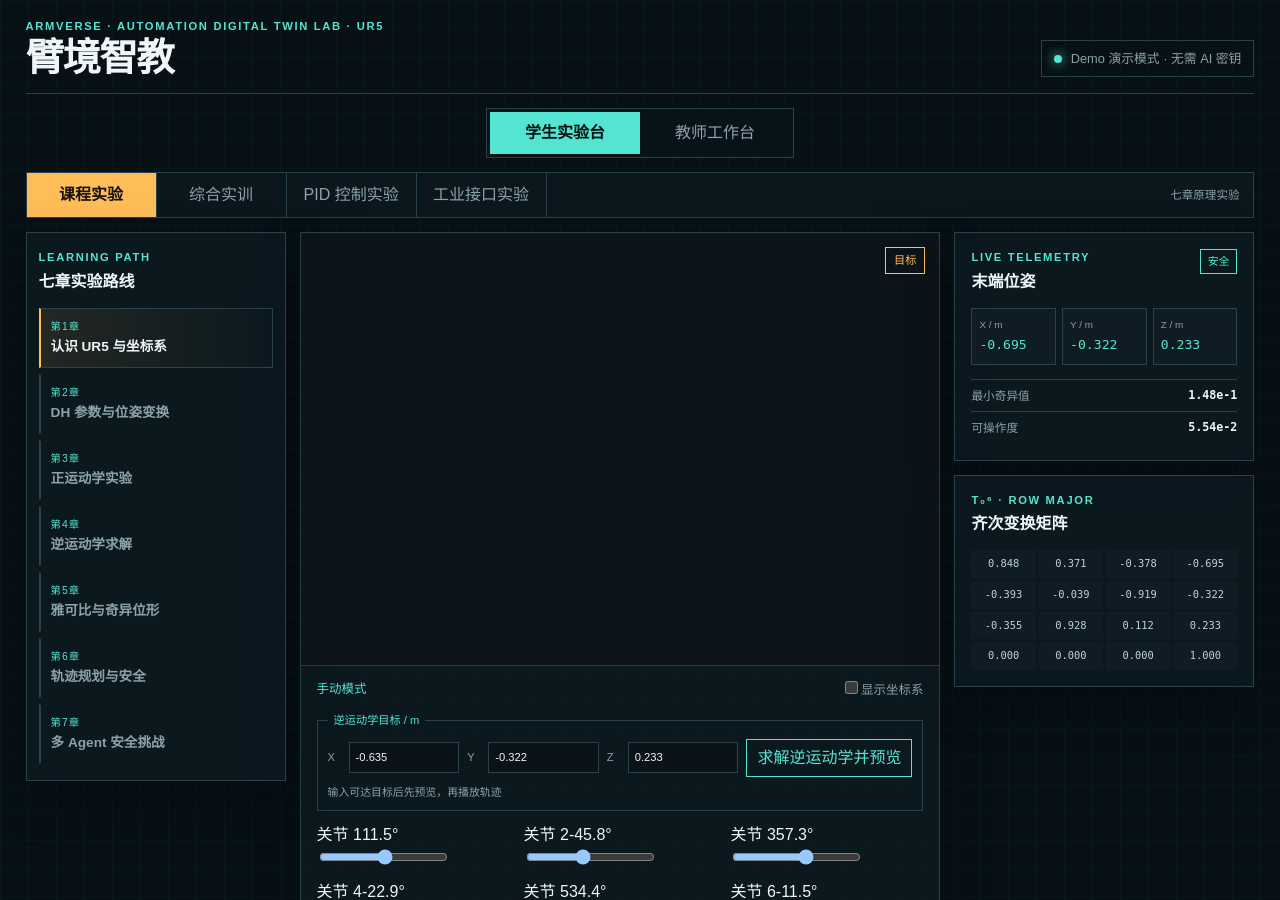
Test case: project foundation › opens the disclosed industrial interface simulation
Click the button "工业接口实验".
click(482, 195)  # box [417,173,547,217]
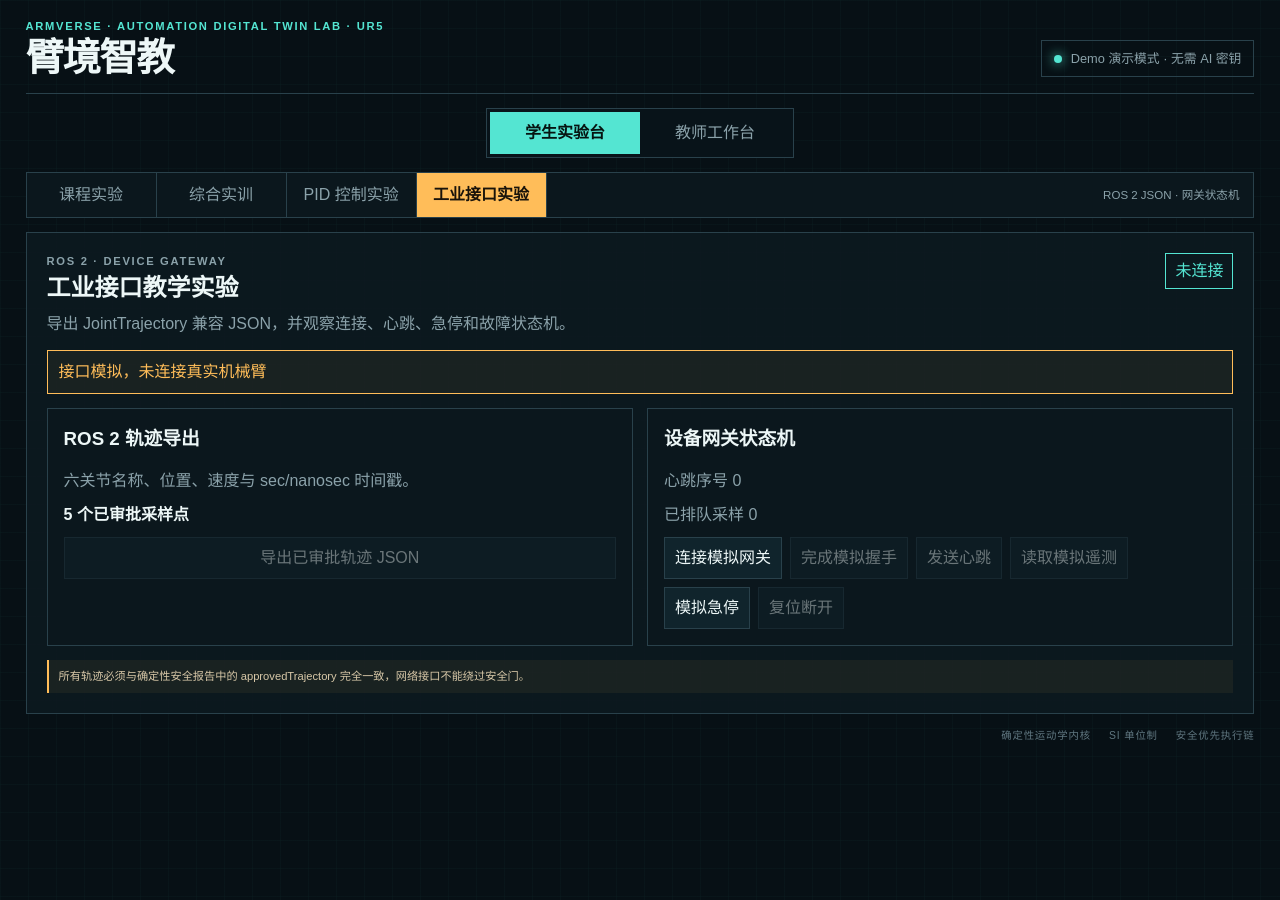
Expected: the element named "工业接口模拟" is shown, [26,232,1254,714]
Expected: the text "接口模拟，未连接真实机械臂" is shown, [47,350,1233,394]
